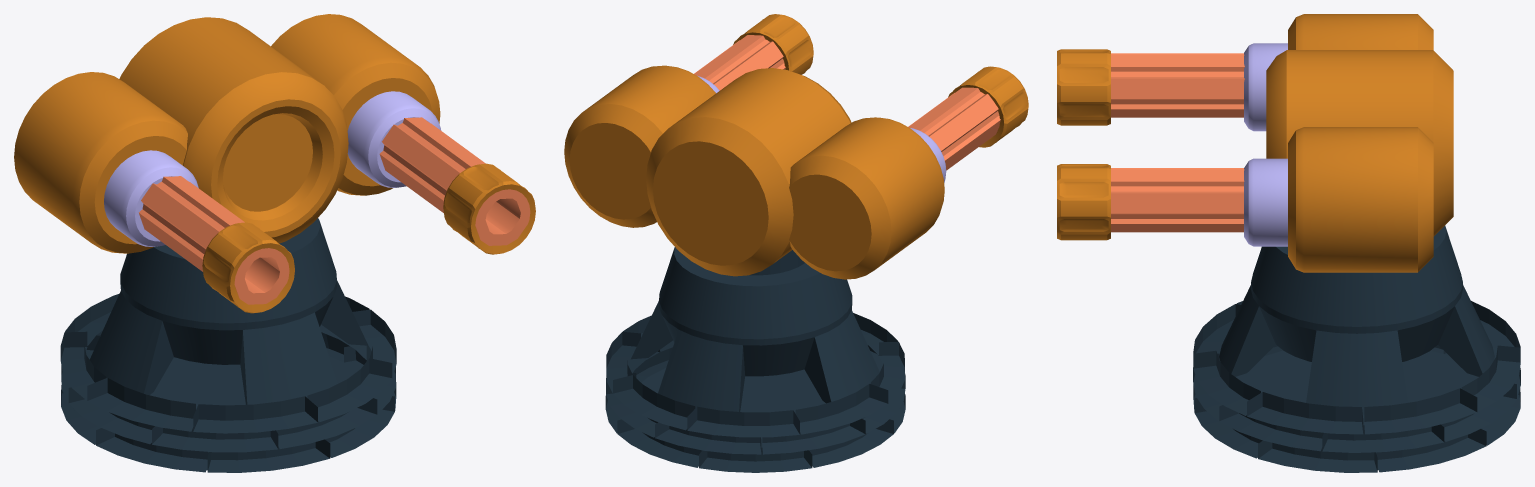
The model's file is Level2_Turret.fbx.
3 renders of one model, left to right at view 1: azimuth 30°, elevation 25°; view 2: azimuth 150°, elevation 25°; view 3: azimuth 270°, elevation 25°, orthographic. The views are drawn at different scales.
Parts seen in each view (by area): view 1: Cylinder.002, Cylinder, Cylinder.010, Cylinder.001, Circle.215, Circle.217, Cylinder.013, Cylinder.012, Cylinder.011, Cylinder.015, Cylinder.016, Circle.214 (+3 smaller); view 2: Cylinder, Cylinder.002, Cylinder.010, Cylinder.012, Cylinder.013, Circle.215, Cylinder.011, Cylinder.017, Cylinder.014, Cylinder.015, Cylinder.016, Circle.214 (+4 smaller); view 3: Cylinder.010, Cylinder, Cylinder.002, Circle.215, Circle.217, Cylinder.013, Cylinder.012, Cylinder.001, Cylinder.011, Circle.214, Circle.216, Cylinder.016 (+3 smaller).
Part boxes in pixels (x1,y1,x2,y2): Cylinder.002: [119, 17, 348, 243]; Cylinder: [14, 14, 440, 253]; Cylinder.010: [89, 218, 368, 404]; Cylinder.001: [104, 91, 441, 246]; Circle.215: [139, 176, 289, 304]; Circle.217: [379, 117, 530, 245]; Cylinder.013: [65, 294, 392, 431]; Cylinder.012: [60, 309, 396, 433]; Cylinder.011: [150, 332, 366, 470]; Cylinder.015: [68, 324, 377, 448]; Cylinder.016: [96, 348, 394, 472]; Circle.214: [202, 222, 294, 313]; Cylinder: [564, 65, 944, 279]; Cylinder.002: [646, 68, 851, 276]; Cylinder.010: [631, 247, 879, 411]; Cylinder.012: [613, 313, 898, 434]; Cylinder.013: [606, 331, 904, 437]; Circle.215: [908, 87, 1000, 170]; Cylinder.011: [633, 347, 825, 447]; Cylinder.017: [617, 360, 893, 467]; Cylinder.014: [606, 340, 905, 454]; Cylinder.015: [606, 350, 905, 454]; Cylinder.016: [605, 373, 905, 472]; Circle.214: [948, 66, 1028, 147]; Cylinder.010: [1219, 225, 1494, 414]; Cylinder: [1288, 14, 1433, 272]; Cylinder.002: [1266, 50, 1453, 236]; Circle.215: [1111, 53, 1244, 117]; Circle.217: [1111, 168, 1244, 232]; Cylinder.013: [1193, 301, 1520, 434]; Cylinder.012: [1193, 304, 1520, 434]; Cylinder.001: [1244, 43, 1287, 246]; Cylinder.011: [1236, 345, 1478, 470]; Circle.214: [1057, 49, 1110, 125]; Circle.216: [1057, 164, 1110, 240]; Cylinder.016: [1194, 346, 1486, 472].
Bounding box in the file's own units: 41.14 × 38.03 × 46.17.
